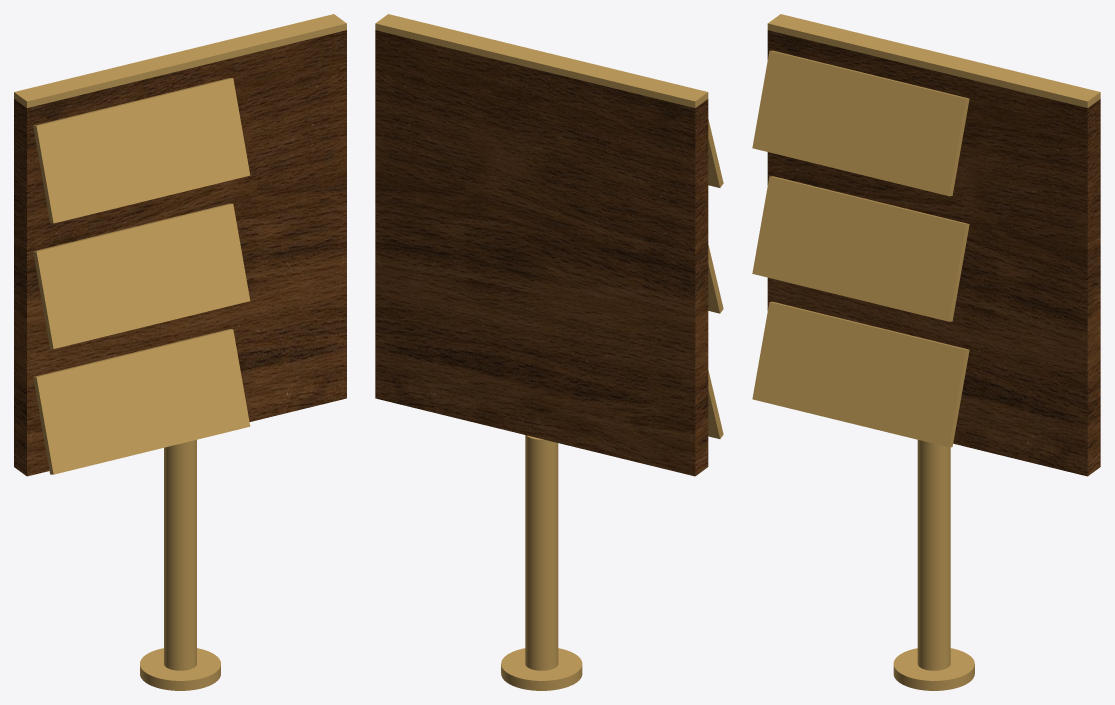
Rendered from wing_l.glb.
3 renders of one model, left to right at view 1: azimuth 30°, elevation 25°; view 2: azimuth 150°, elevation 25°; view 3: azimuth 330°, elevation 25°, orthographic.
Parts seen in each view (by area): view 1: wing_l; view 2: wing_l; view 3: wing_l.
Part boxes in pixels (bbox=[...]): wing_l: bbox=[14, 14, 346, 690]; wing_l: bbox=[375, 14, 723, 690]; wing_l: bbox=[752, 14, 1100, 690].
Size of the model in its own units: 0.2 by 0.368 by 0.0518.
Materials: 2 (1 with a texture image).
